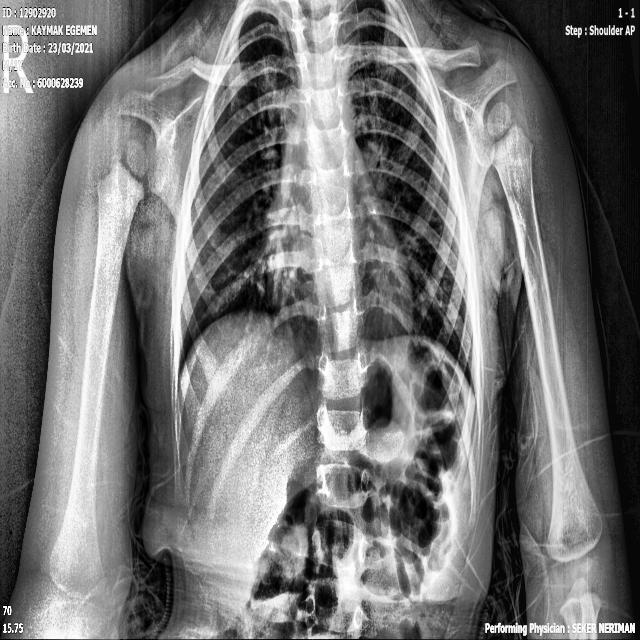Fracture: (179, 42, 207, 86)
